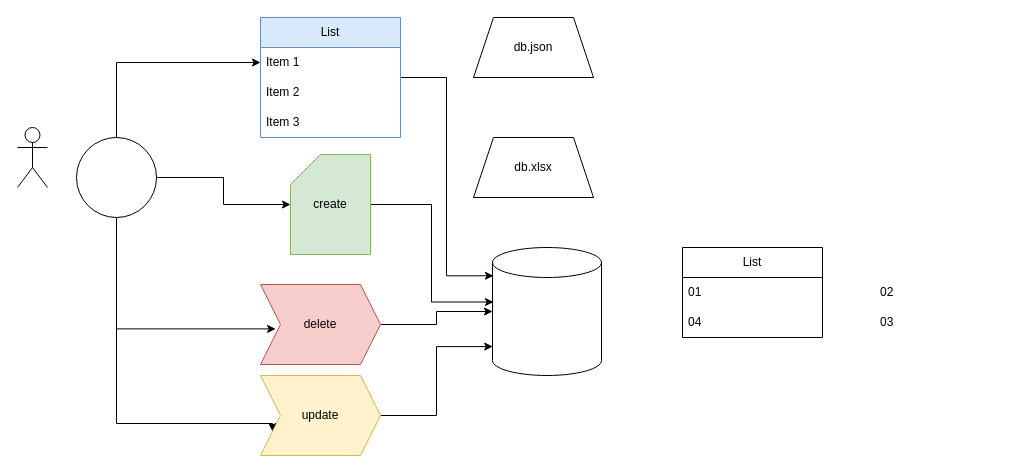
Image size: 1032x473. Some labels were removed from this diagram. The box of each missing label's shape, as (x1, y1, x2, y2) in pixels:
Actor: (16, 126, 48, 188)
database: (492, 246, 602, 376)
